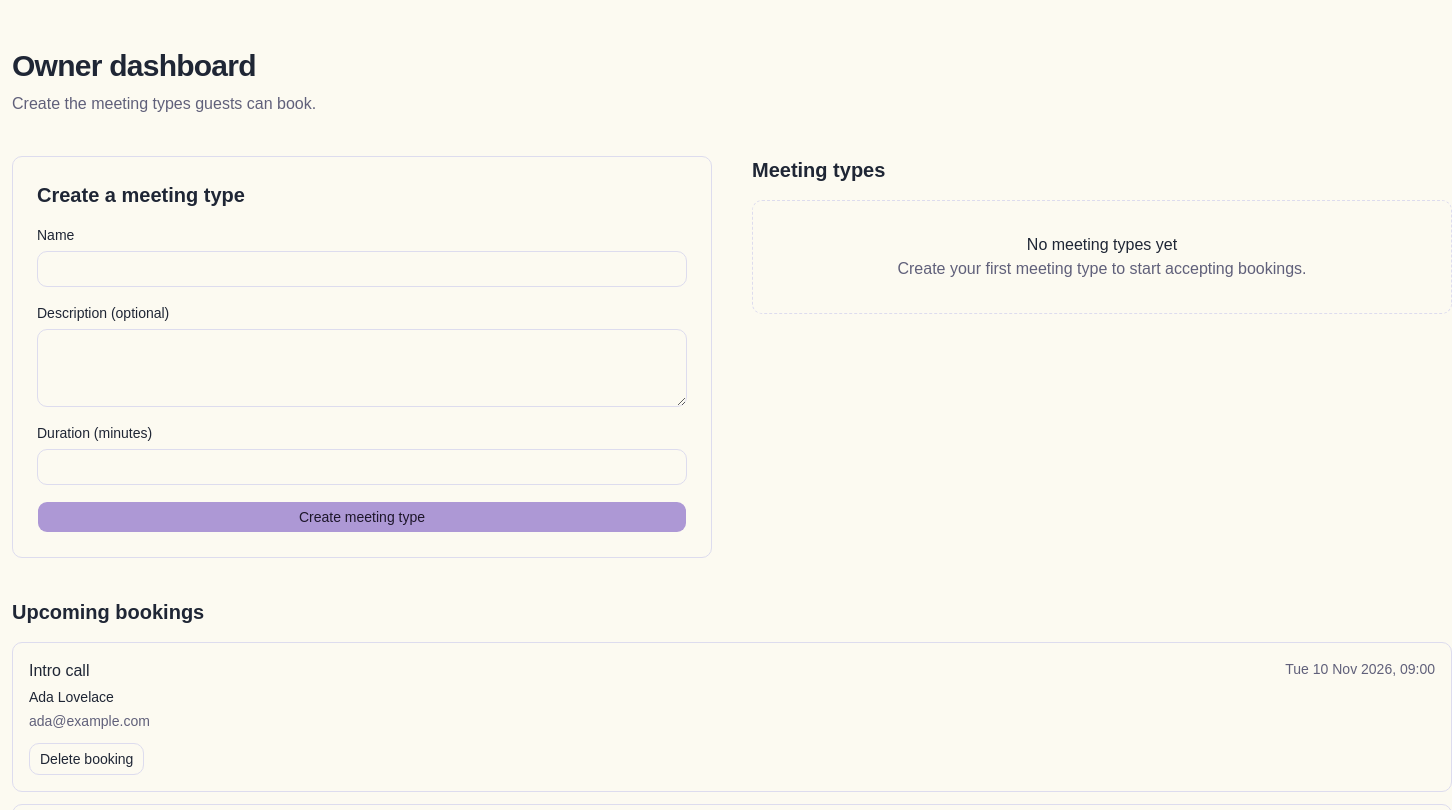
Test: OwnerDashboardPage › deleting a booking › keeps the retry action when a concurrent delete succeeds
The image size is (1452, 810).
Click the button "Delete booking" at (87, 759), box 29,743 -> 144,775
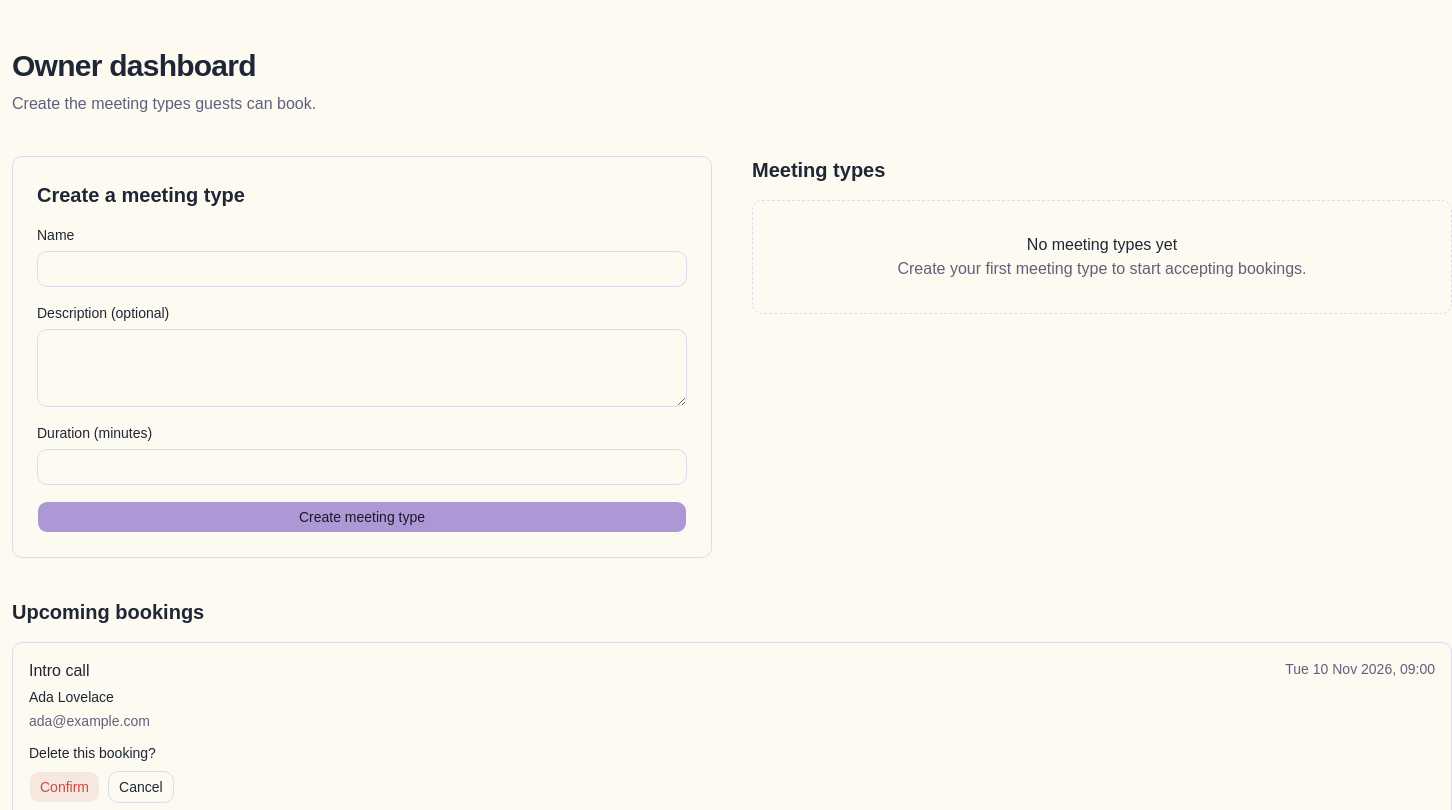
Click the button "Confirm" at (64, 787), box 29,771 -> 100,803
(page scrolled)
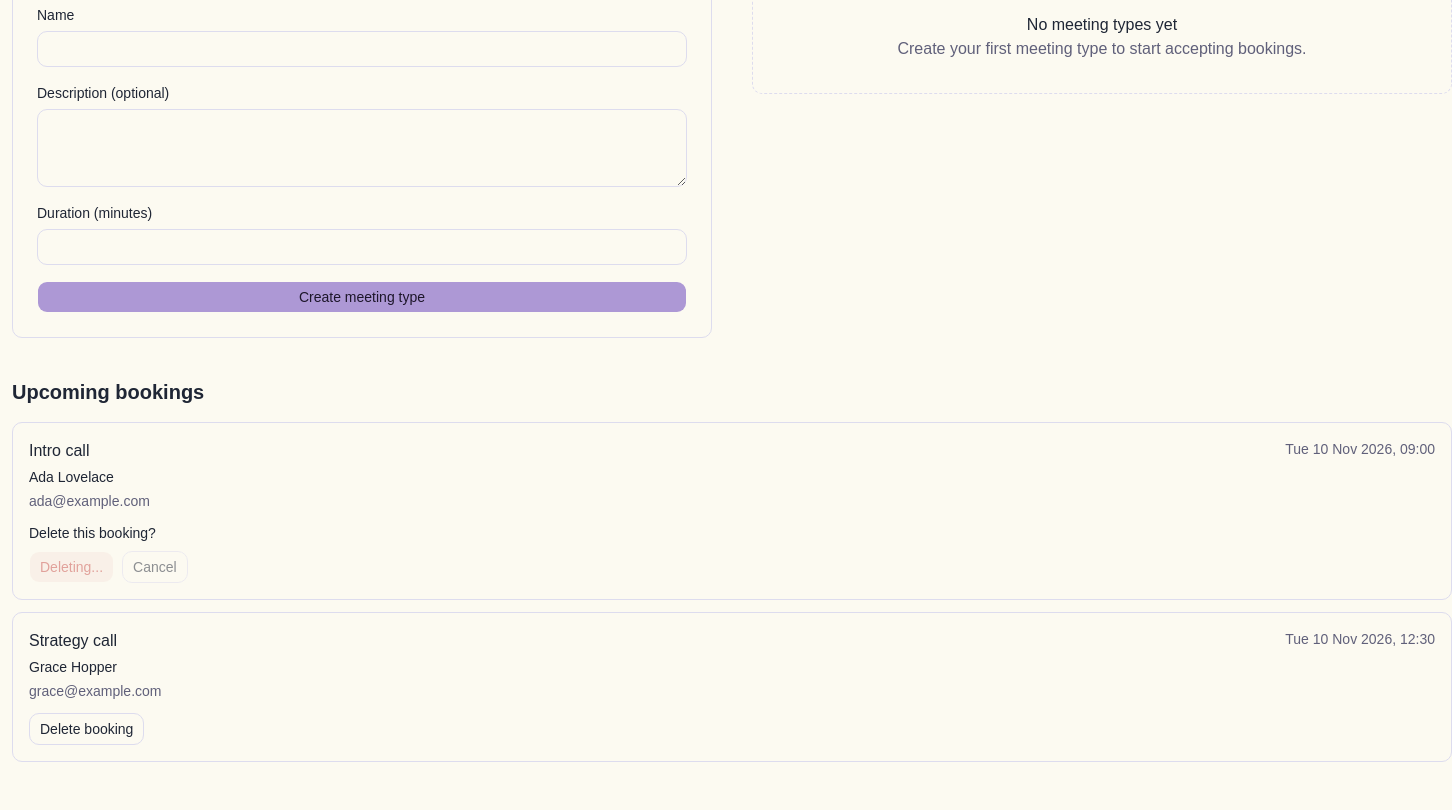
Click the button "Delete booking" at (87, 729), box 29,713 -> 144,745
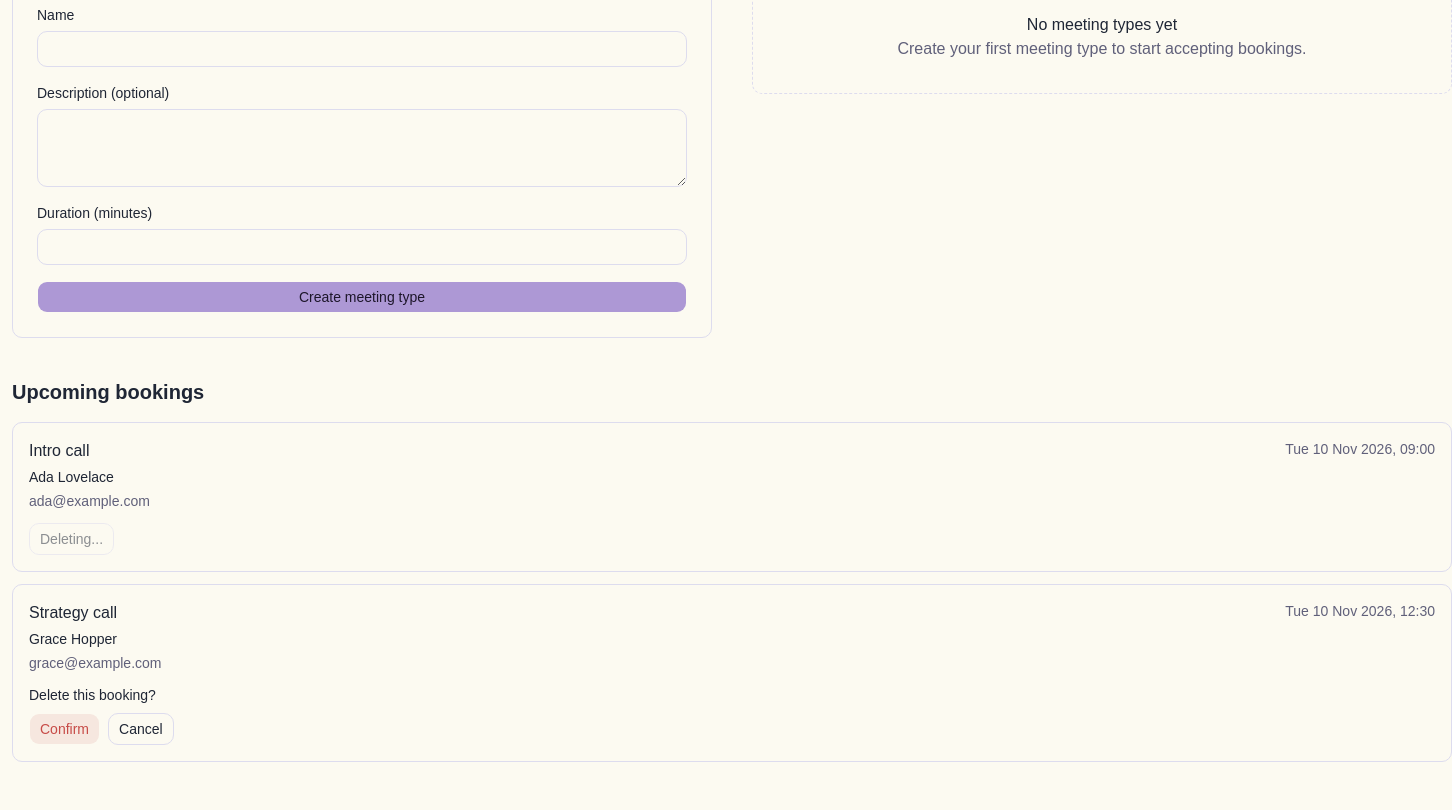
Click the button "Confirm" at (64, 729), box 29,713 -> 100,745
(page scrolled)
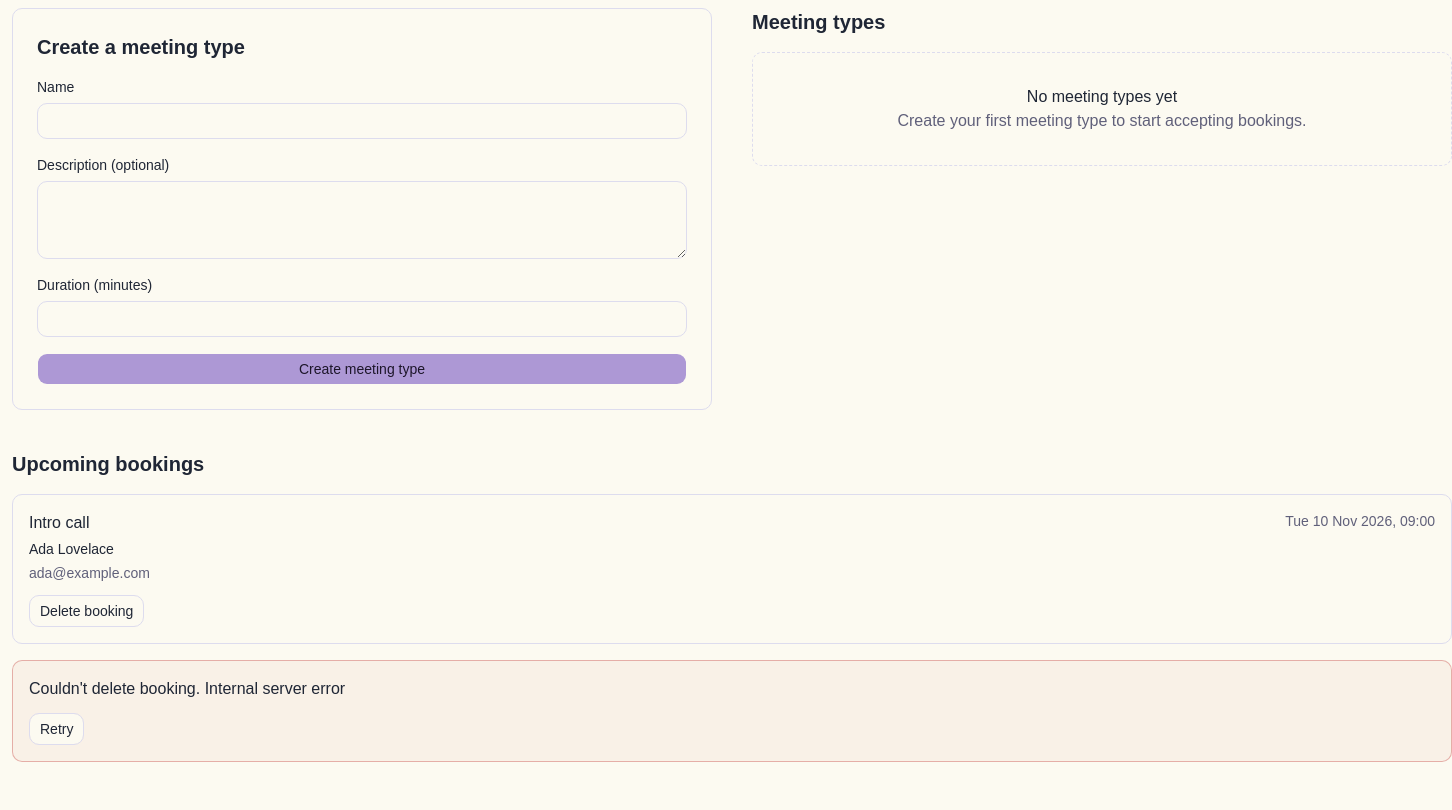
Check: the message shows "Couldn't delete booking.", box 29,680 -> 205,697
Check: the text "Grace Hopper" is gone
Check: the button "Retry" is shown, box 29,713 -> 84,745
